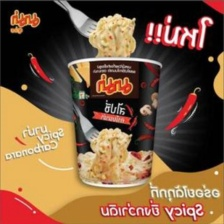paper_cup: (63, 52, 167, 191)
